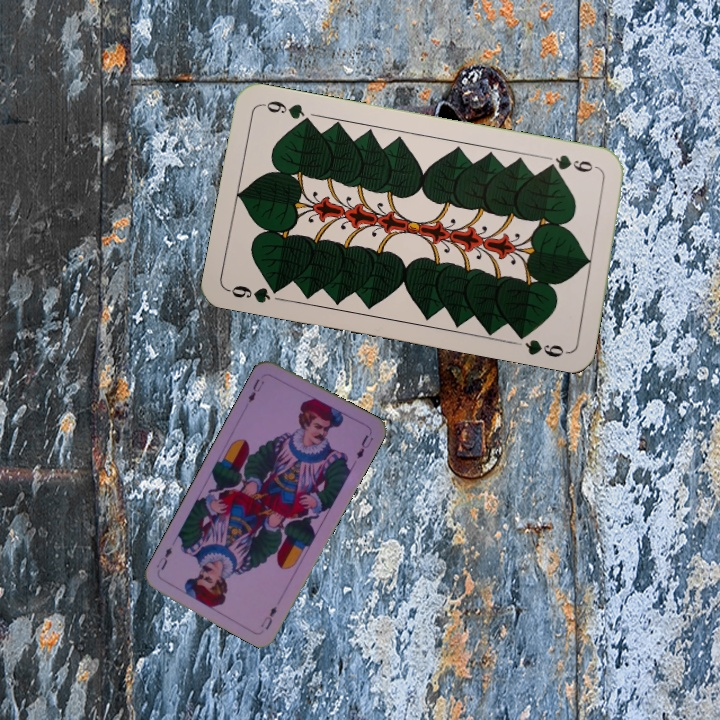EU: (244, 375, 267, 405), (257, 602, 280, 632)
G9: (543, 150, 603, 175), (225, 281, 285, 306)
